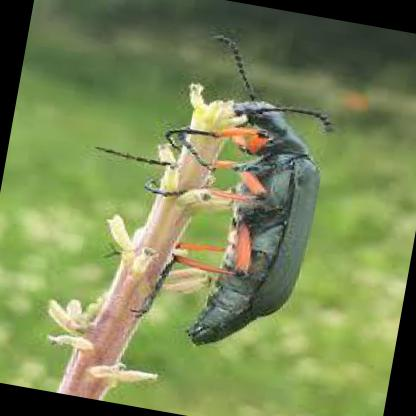blister beetle: (167, 40, 335, 349)
